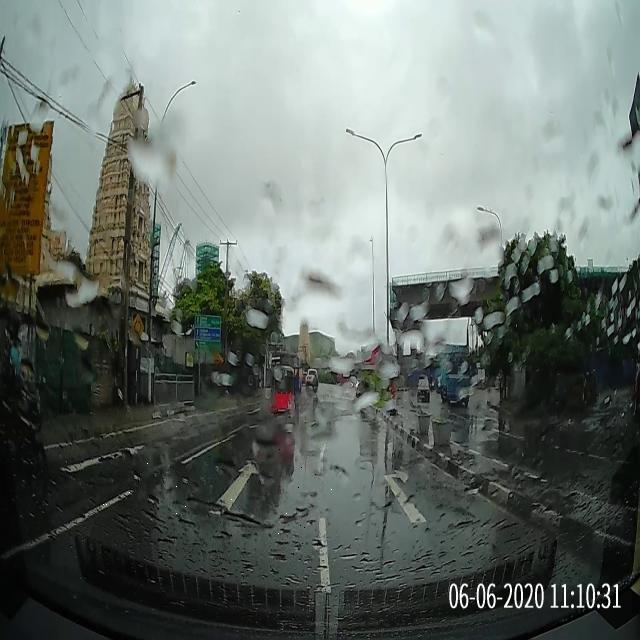forward: (85, 443, 333, 557)
